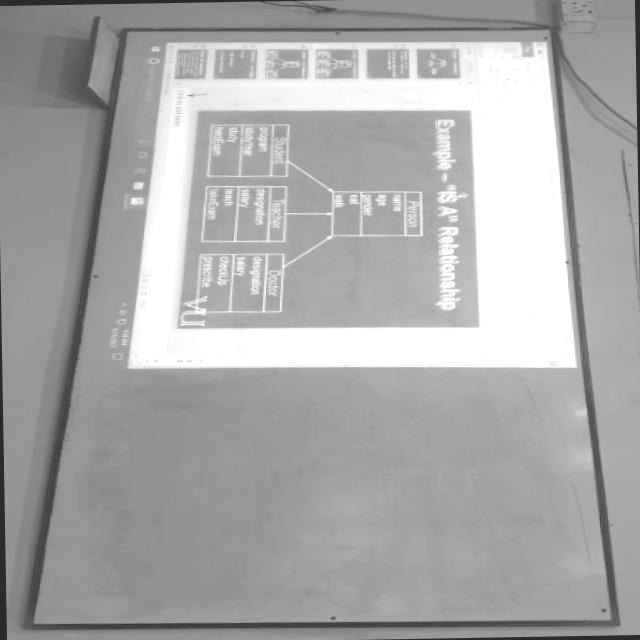Slide: (92, 42, 577, 369)
White-board: (23, 28, 616, 626)
